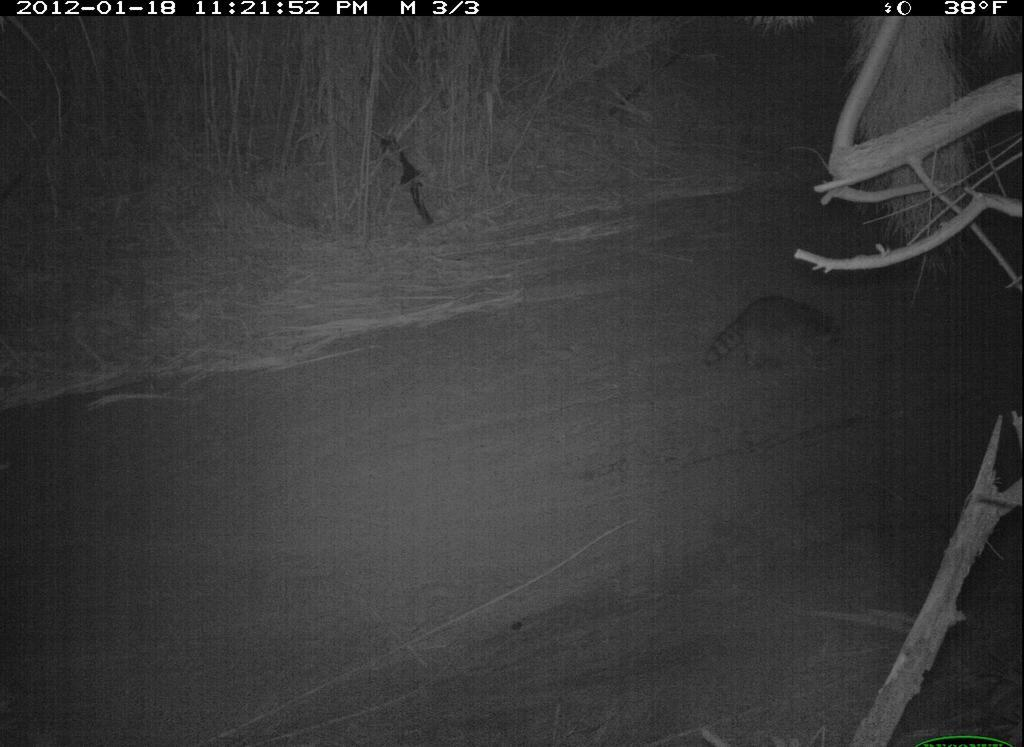raccoon: (699, 291, 857, 387)
